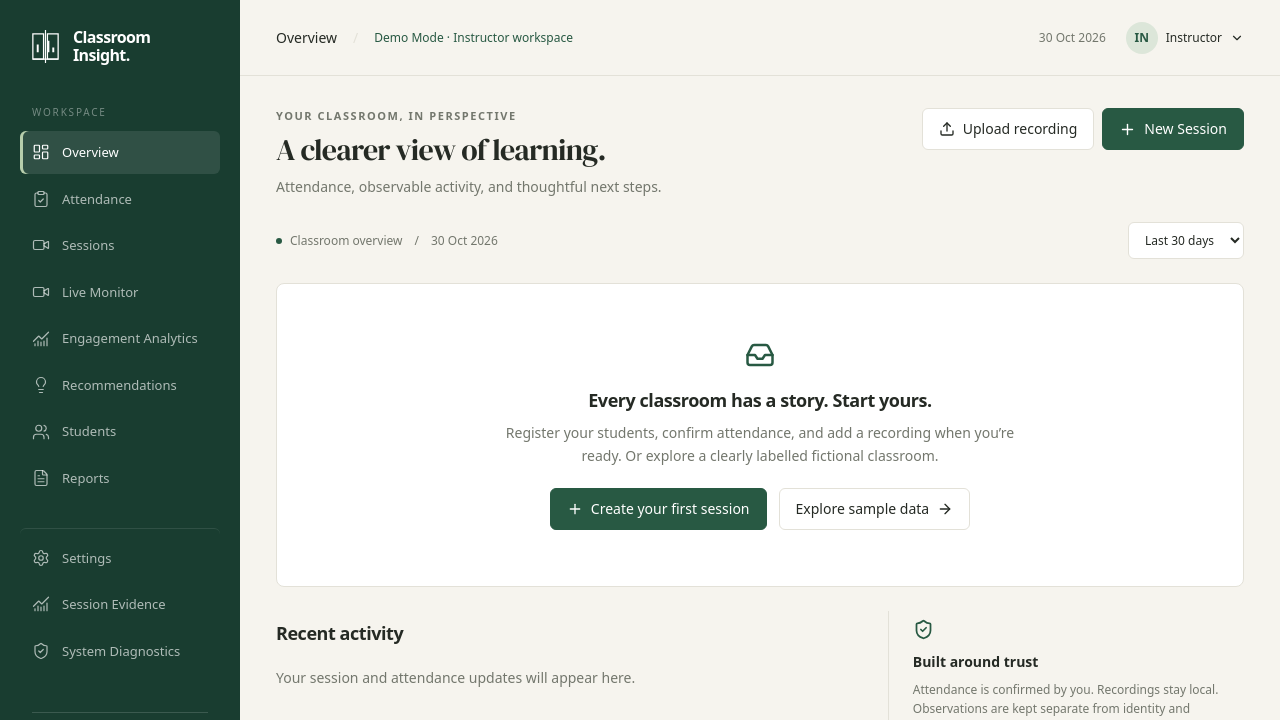
Test: navigation opens Recommendations
The image size is (1280, 720).
Expected: the heading "A clearer view of learning." is shown, [276,132,662,168]
Click the link "Recommendations" at (104, 385), box [32,376,177,394]
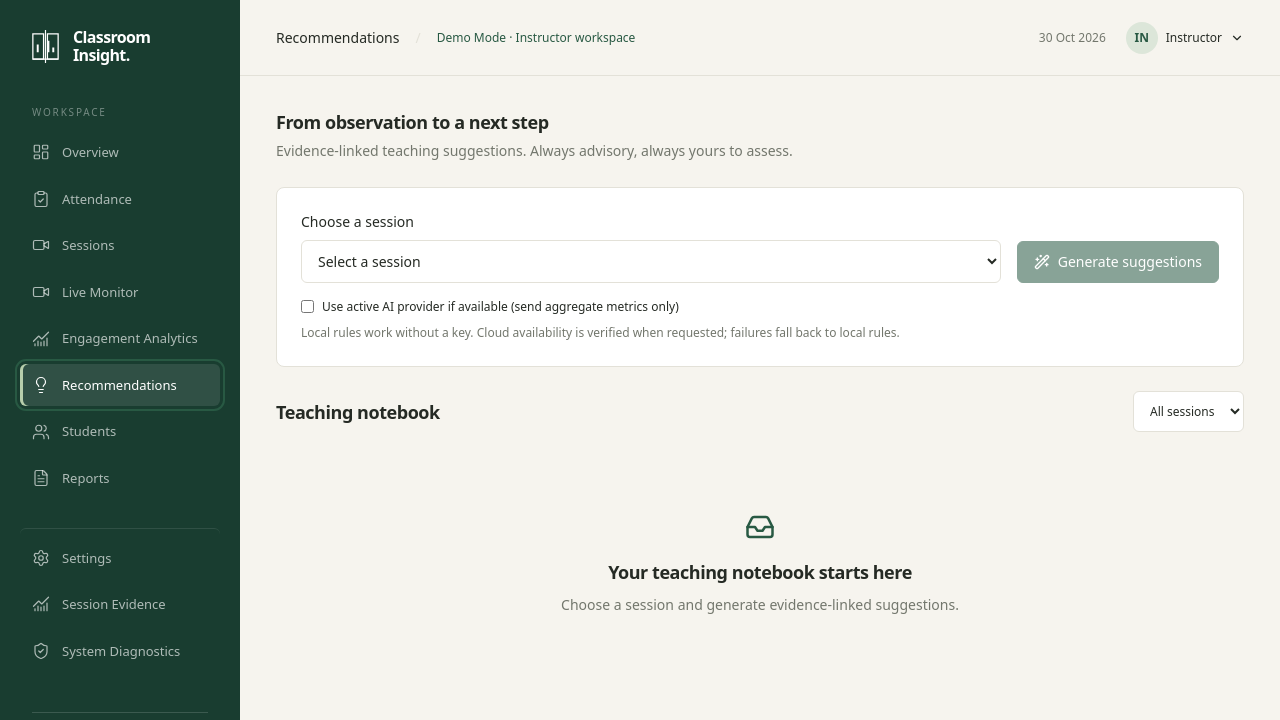
Expected: the heading "From observation to a next step" is shown, [276,110,549,134]
